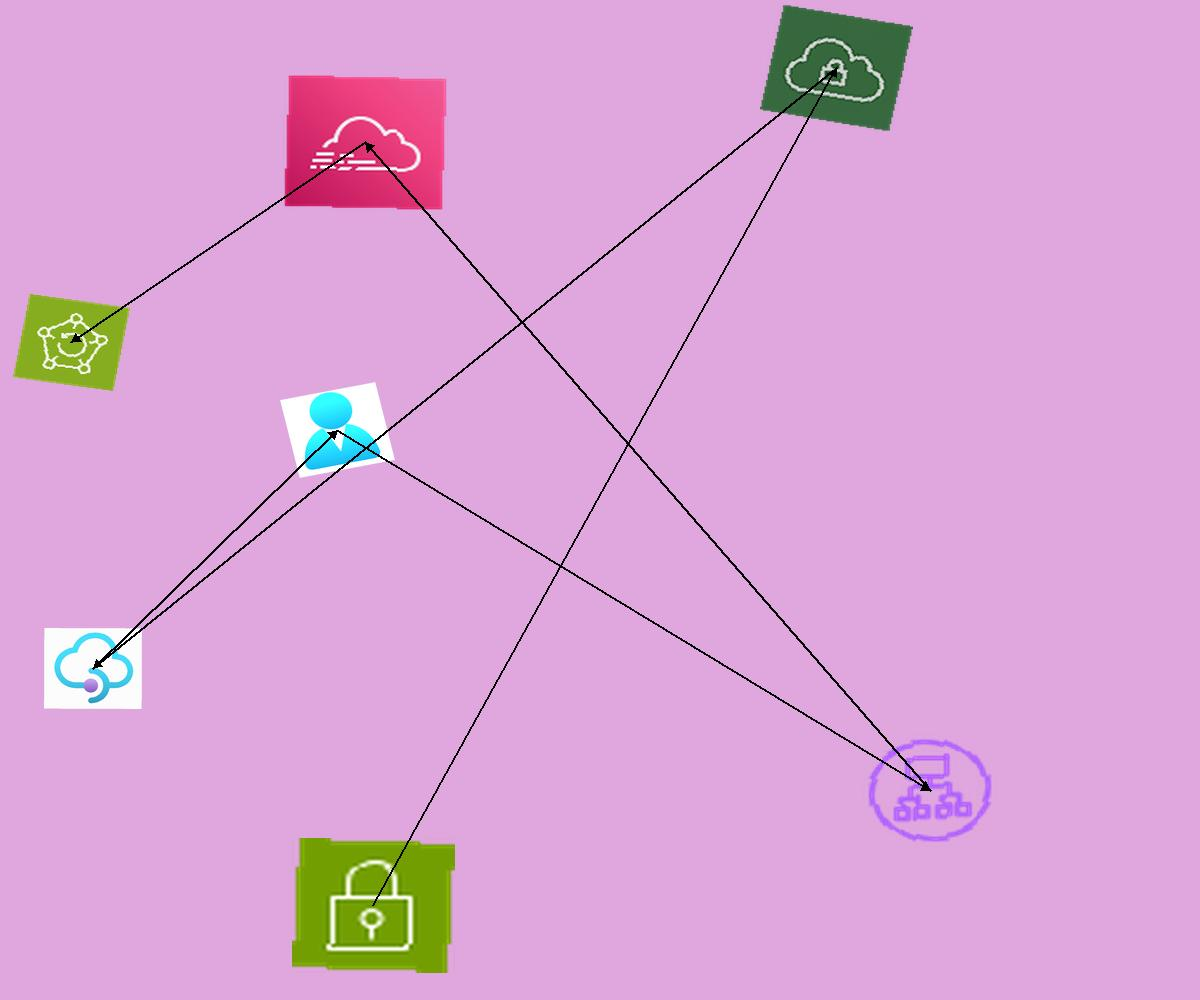AWS-Backup: (12, 293, 131, 392)
AWS-CloudTrail: (283, 74, 448, 211)
AWS-Private_vpc: (760, 4, 913, 132)
AWS-Public-subnet: (292, 838, 455, 973)
AWS-Res_Elastic-Load-Balancing_Application-Load-Balancer: (855, 728, 1005, 853)
Azure_api_gateway: (44, 628, 142, 709)
Azure_users: (280, 382, 395, 478)
